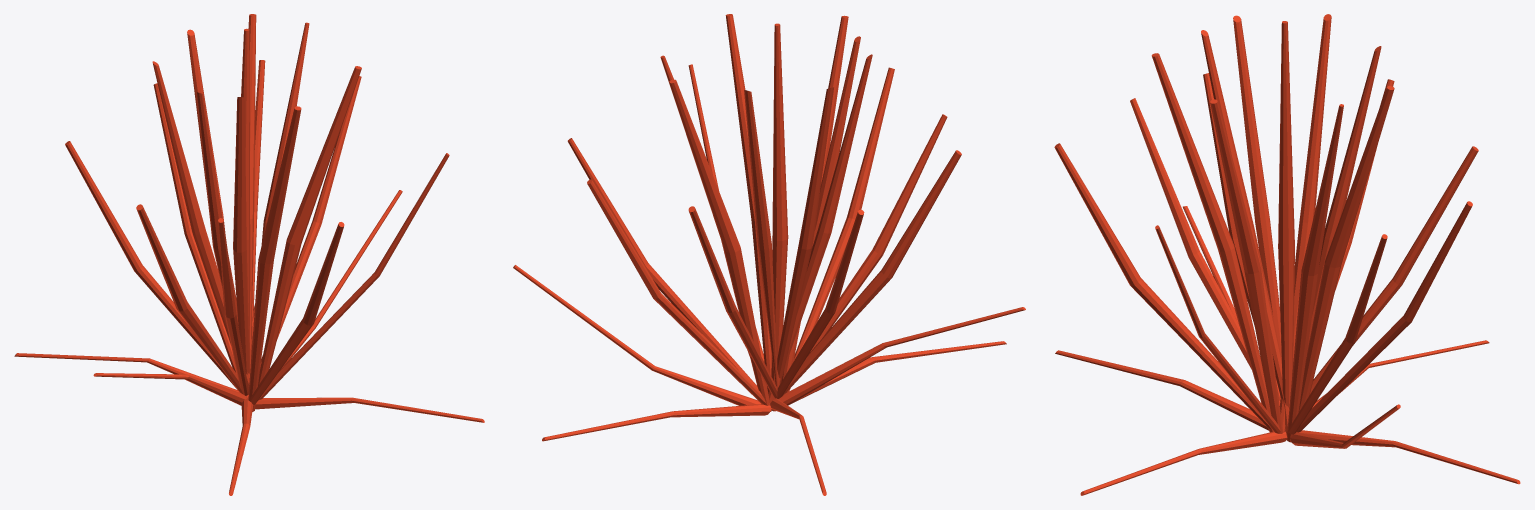
The model's file is Natures2p1-orange.fbx.
The picture shows the model from 3 angles, left to right: view 1: azimuth 30°, elevation 25°; view 2: azimuth 150°, elevation 25°; view 3: azimuth 270°, elevation 25°; orthographic projection. The views are drawn at different scales.
Parts seen in each view (by area): view 1: p1-orange; view 2: p1-orange; view 3: p1-orange.
Part boxes in pixels (<box>): p1-orange: <box>14,14,484,495</box>; p1-orange: <box>513,14,1025,495</box>; p1-orange: <box>1054,14,1520,495</box>.
Bounding box in the file's own units: 202 × 180 × 183.
